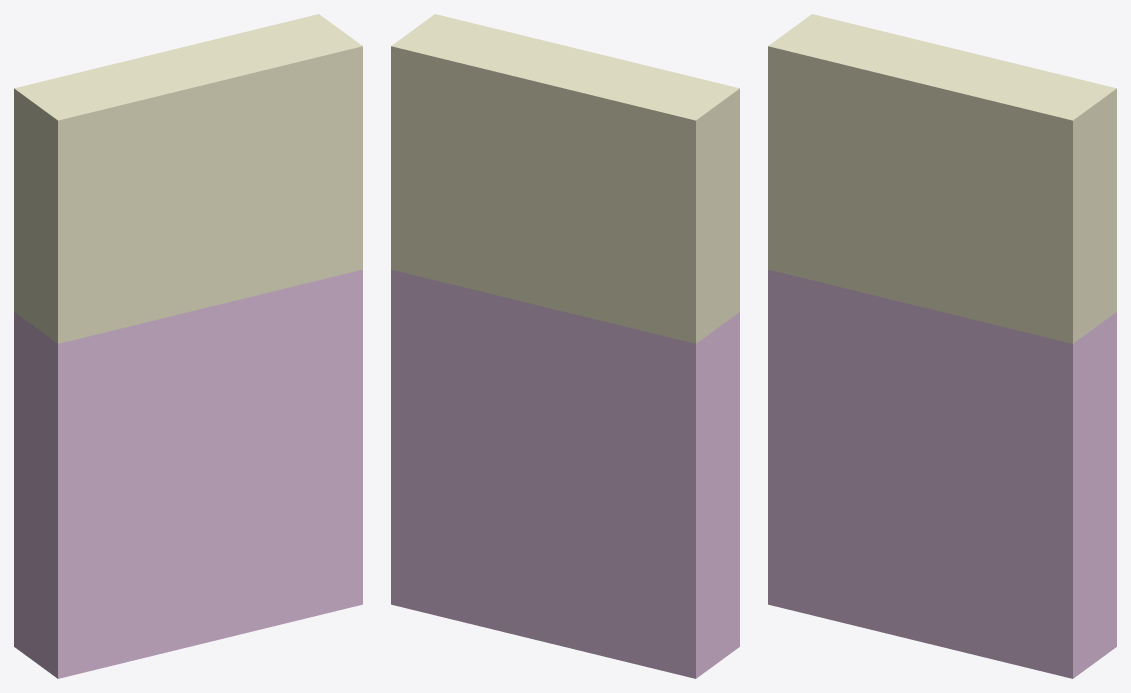
File: Wall_A_Plain.glb
3 renders of one model, left to right at view 1: azimuth 30°, elevation 25°; view 2: azimuth 150°, elevation 25°; view 3: azimuth 330°, elevation 25°, orthographic.
Parts seen in each view (by area): view 1: Wall A Plain; view 2: Wall A Plain; view 3: Wall A Plain.
Boxes of the visible parts, x1,y1,x2,y2 form: Wall A Plain: (14, 14, 362, 678); Wall A Plain: (391, 14, 739, 678); Wall A Plain: (768, 14, 1116, 678).
Bounding box in the file's own units: 2 × 3.5 × 0.5.
